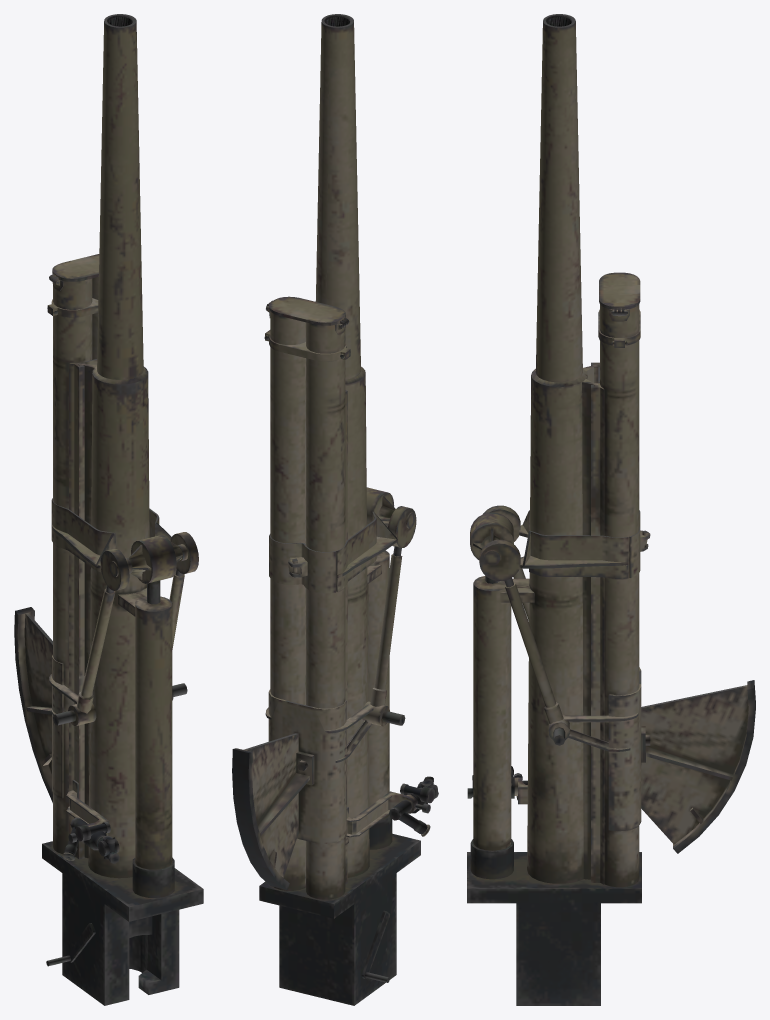
Rendered from Gun_03.glb.
3 renders of one model, left to right at view 1: azimuth 30°, elevation 25°; view 2: azimuth 150°, elevation 25°; view 3: azimuth 270°, elevation 25°, orthographic.
Visible parts, largest first — view 1: set_0_group_0; view 2: set_0_group_0; view 3: set_0_group_0.
Part boxes in pixels (x1,y1,x2,y2): set_0_group_0: (14, 14, 203, 1005); set_0_group_0: (232, 14, 438, 1005); set_0_group_0: (467, 14, 755, 1005).
Bounding box in the file's own units: 0.4974 × 3.29 × 0.89.
1 material, 1 textured.
